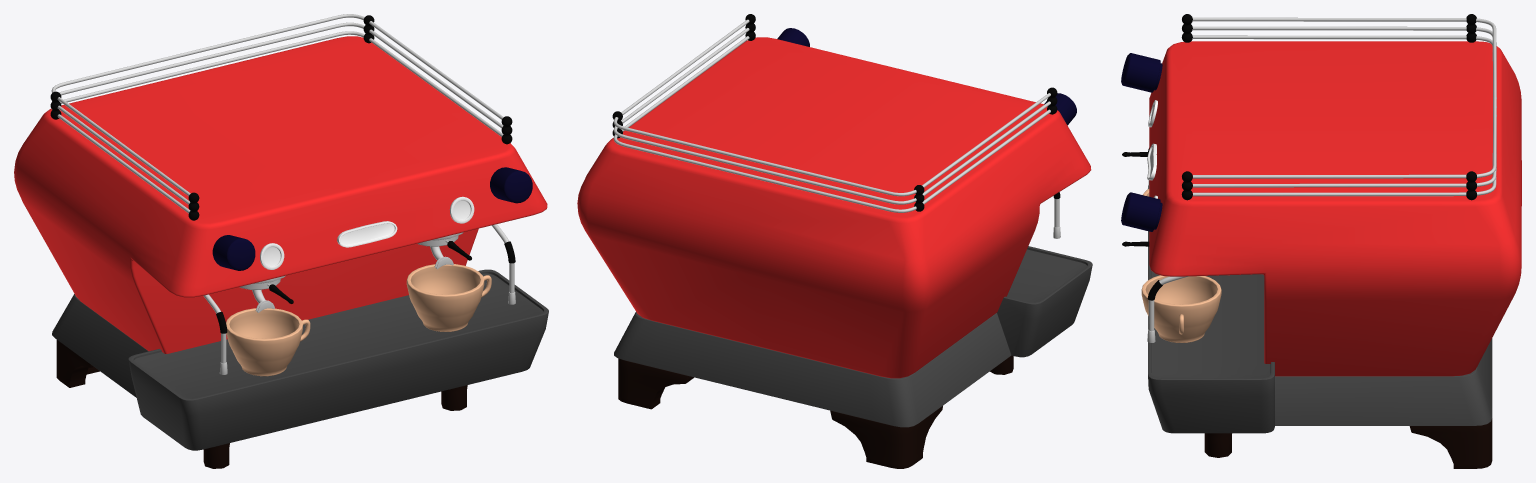
The model's file is cafetera_UV.fbx.
3 views of the same model, side by side, from view 1: azimuth 30°, elevation 25°; view 2: azimuth 150°, elevation 25°; view 3: azimuth 270°, elevation 25° (orthographic). The views are drawn at different scales.
Visible parts, largest first — view 1: cafetera001; view 2: cafetera001; view 3: cafetera001.
Part boxes in pixels (bbox=[...]): cafetera001: bbox=[14, 14, 548, 468]; cafetera001: bbox=[577, 14, 1092, 468]; cafetera001: bbox=[1121, 14, 1521, 468].
Bounding box in the file's own units: 48.44 × 36.01 × 43.63.
